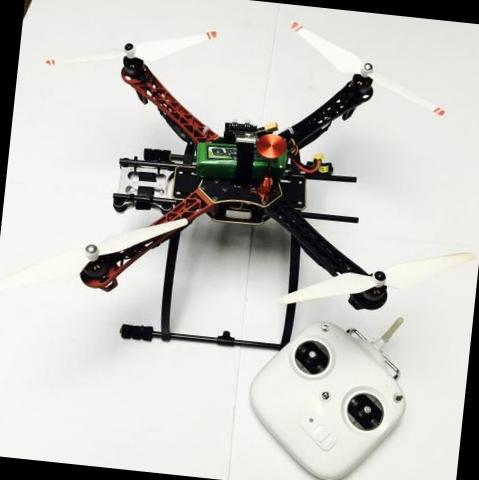drone: (0, 7, 479, 378)
